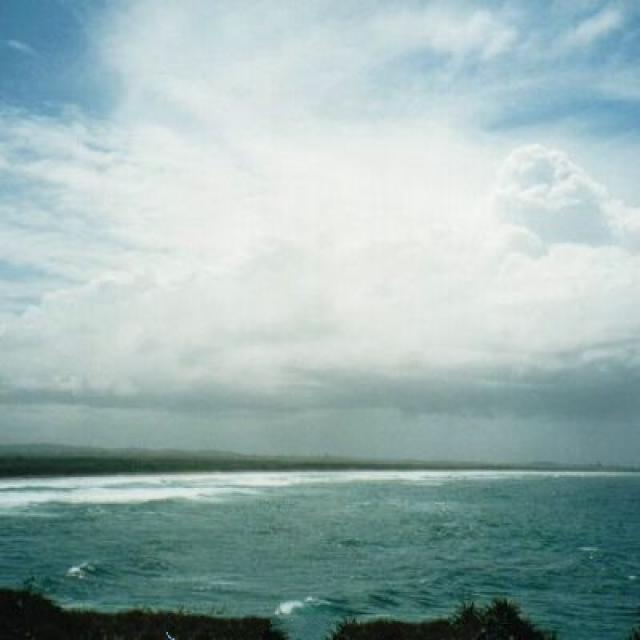Cs: (1, 43, 640, 432)
